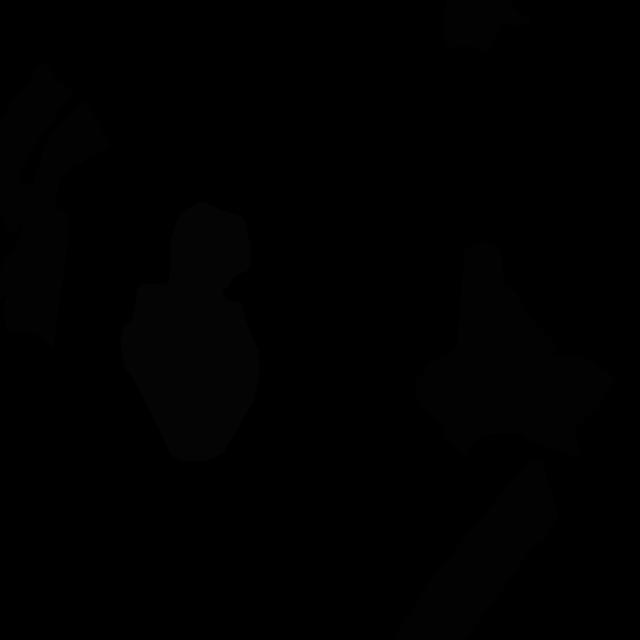cardboard: (414, 241, 617, 460), (393, 458, 559, 640), (0, 60, 111, 234), (0, 192, 69, 350), (444, 0, 531, 54)
soft_plastic: (120, 202, 260, 461)
